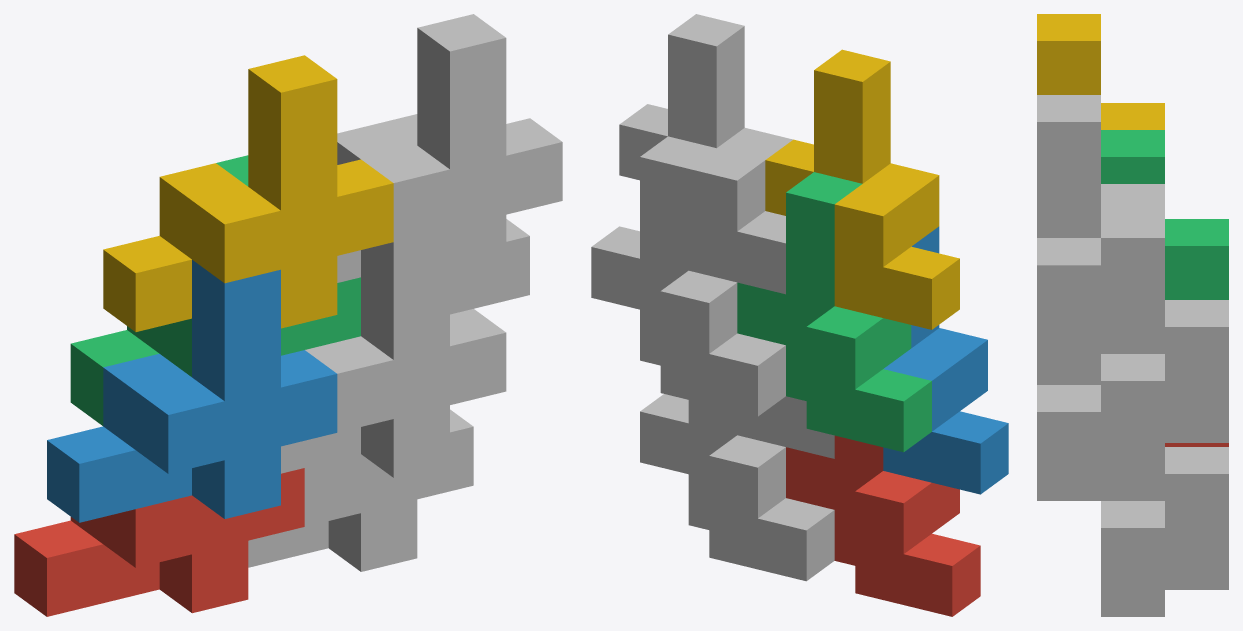
File: tiling.obj
3 renders of one model, left to right at view 1: azimuth 30°, elevation 25°; view 2: azimuth 150°, elevation 25°; view 3: azimuth 270°, elevation 25°, orthographic. The views are drawn at different scales.
Visible parts, largest first — view 1: copy_1_domain_2, copy_1_domain_4, copy_1_domain_8, copy_1_domain_6, copy_1_domain_1, copy_1_domain_5, copy_1_domain_3, copy_1_domain_7; view 2: copy_1_domain_4, copy_1_domain_3, copy_1_domain_7, copy_1_domain_8, copy_1_domain_1, copy_1_domain_5, copy_1_domain_2, copy_1_domain_6; view 3: copy_1_domain_7, copy_1_domain_5, copy_1_domain_8, copy_1_domain_6, copy_1_domain_3, copy_1_domain_4.
Boxes of the visible parts, box(x1,y1,x2,y2) form: copy_1_domain_2: box(47, 260, 337, 522); copy_1_domain_4: box(103, 55, 393, 331); copy_1_domain_8: box(337, 14, 562, 287); copy_1_domain_6: box(281, 228, 506, 477); copy_1_domain_1: box(14, 468, 304, 616); copy_1_domain_5: box(248, 409, 473, 571); copy_1_domain_3: box(70, 155, 360, 425); copy_1_domain_7: box(385, 114, 529, 314); copy_1_domain_4: box(765, 49, 959, 329); copy_1_domain_3: box(737, 172, 931, 452); copy_1_domain_7: box(591, 136, 785, 416); copy_1_domain_8: box(619, 14, 792, 294); copy_1_domain_1: box(786, 435, 980, 616); copy_1_domain_5: box(640, 394, 834, 581); copy_1_domain_2: box(883, 226, 1008, 494); copy_1_domain_6: box(737, 396, 834, 458); copy_1_domain_7: box(1101, 211, 1228, 469); copy_1_domain_5: box(1101, 447, 1228, 616); copy_1_domain_8: box(1037, 95, 1164, 353); copy_1_domain_6: box(1037, 354, 1100, 500); copy_1_domain_3: box(1101, 130, 1228, 299); copy_1_domain_4: box(1037, 14, 1164, 129).
Size of the model in its own units: 8 by 9 by 3.
